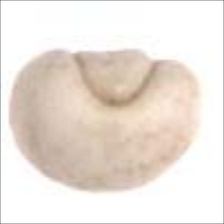L5: (68, 47, 164, 108)
L6: (7, 47, 202, 194)
